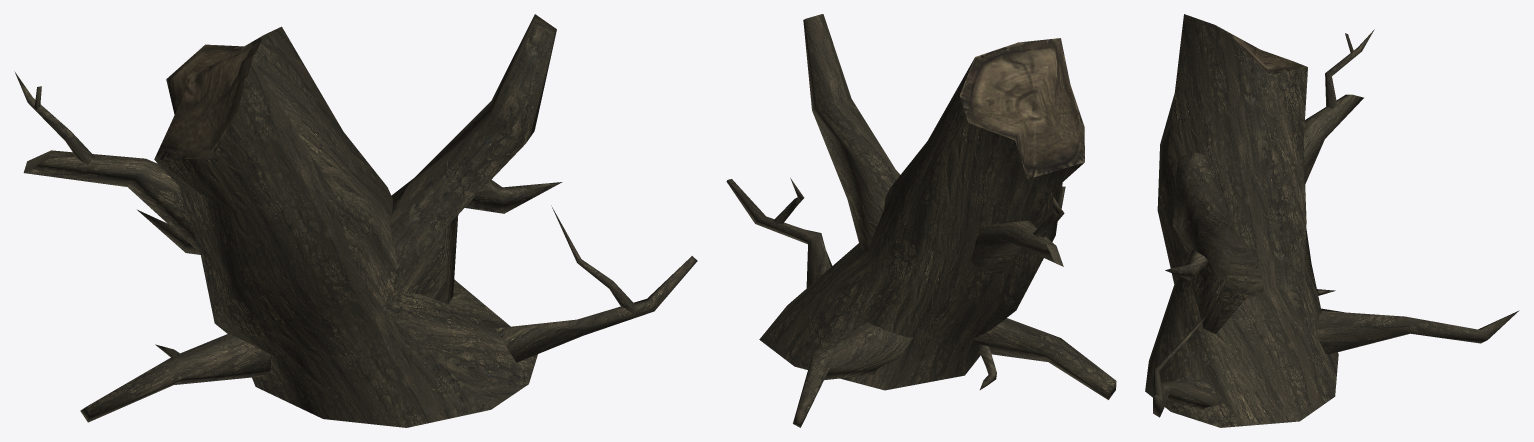
The model's file is s7_fightpve_kushu01.FBX.
3 views of the same model, side by side, from view 1: azimuth 30°, elevation 25°; view 2: azimuth 150°, elevation 25°; view 3: azimuth 270°, elevation 25° (orthographic). The views are drawn at different scales.
Visible parts, largest first — view 1: kushu03, Object01; view 2: kushu03, Object01; view 3: kushu03, Object01.
Part boxes in pixels (bbox=[...]): kushu03: bbox=[14, 14, 697, 427]; Object01: bbox=[154, 35, 263, 159]; kushu03: bbox=[726, 14, 1116, 427]; Object01: bbox=[959, 38, 1084, 179]; kushu03: bbox=[1145, 14, 1519, 427]; Object01: bbox=[1216, 25, 1307, 74].
Size of the model in its own units: 1.95 by 1.33 by 1.51.
